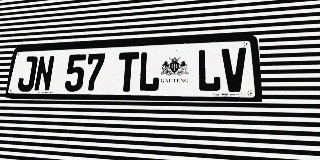5: (64, 54, 86, 92)
7: (83, 53, 105, 92)
J: (16, 56, 38, 92)
L: (197, 49, 221, 92), (138, 51, 161, 92)
N: (33, 55, 55, 92)
T: (116, 52, 139, 92)
V: (221, 47, 248, 92)
